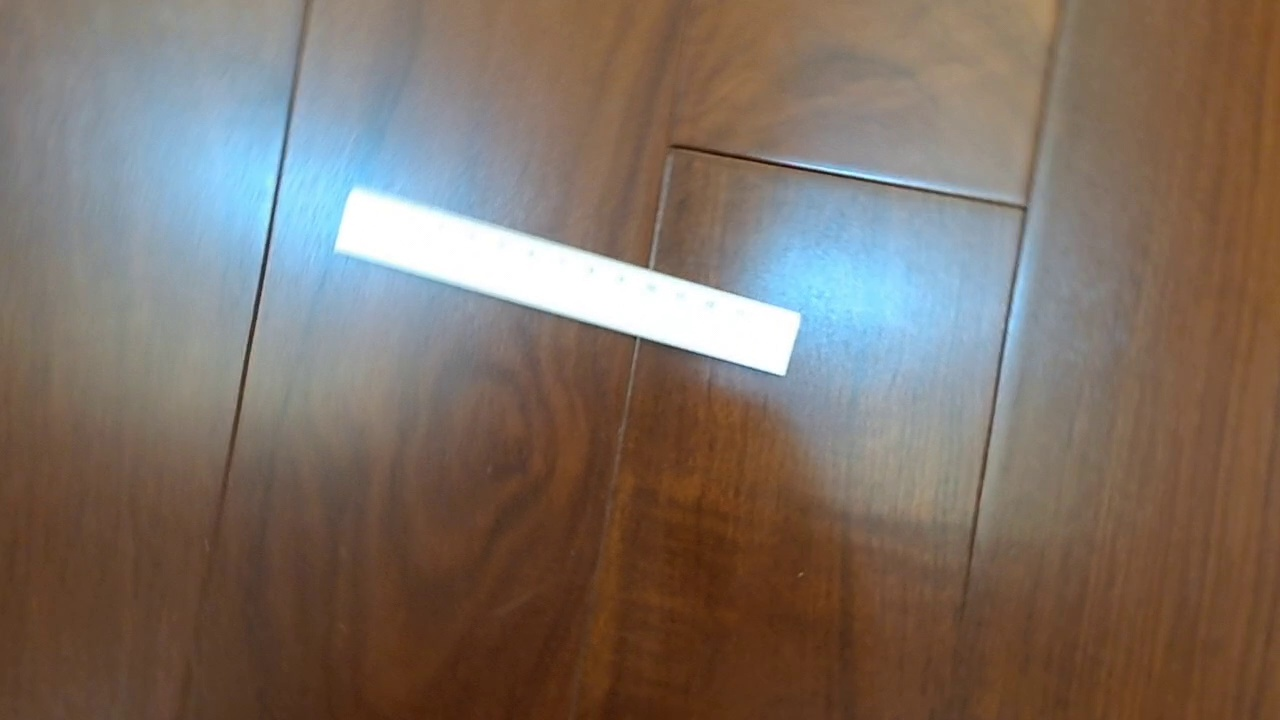ruler: (332, 183, 802, 378)
